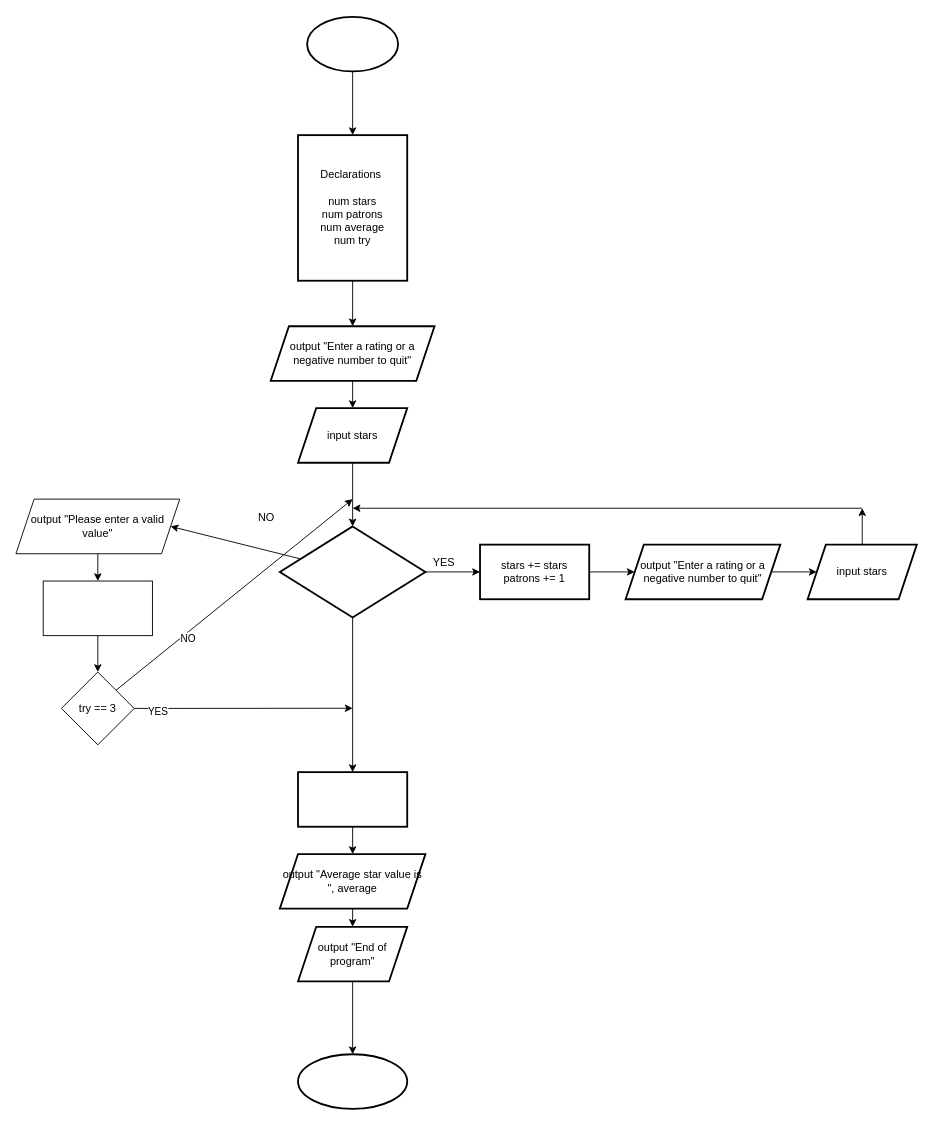
The diagram is 934 pixels wide and 1125 high, and some of its shapes have lost their labels. Each missing label, with the centre of its shape:
"average = stars / patrons" belongs at point 352,799.
"stars >= 0 AND stars <= 4" belongs at point 352,571.
"start" belongs at point 352,43.
"stop" belongs at point 352,1081.
"try += 1" belongs at point 97,608.
